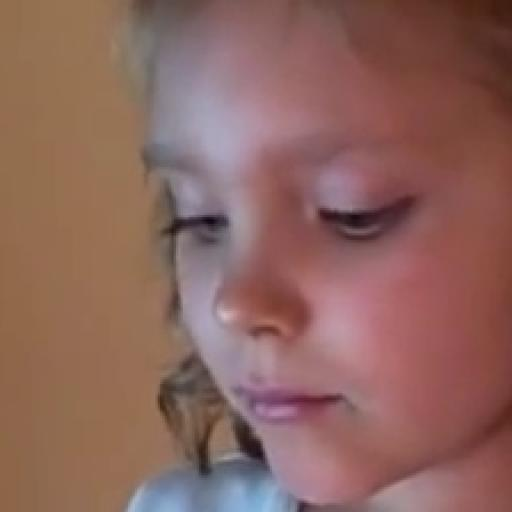Autism: (93, 0, 512, 512)
